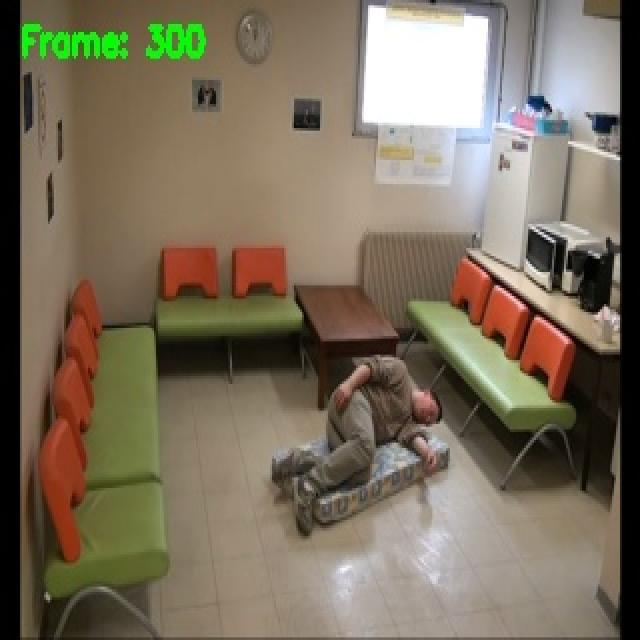Fall-Detected: (268, 352, 446, 542)
